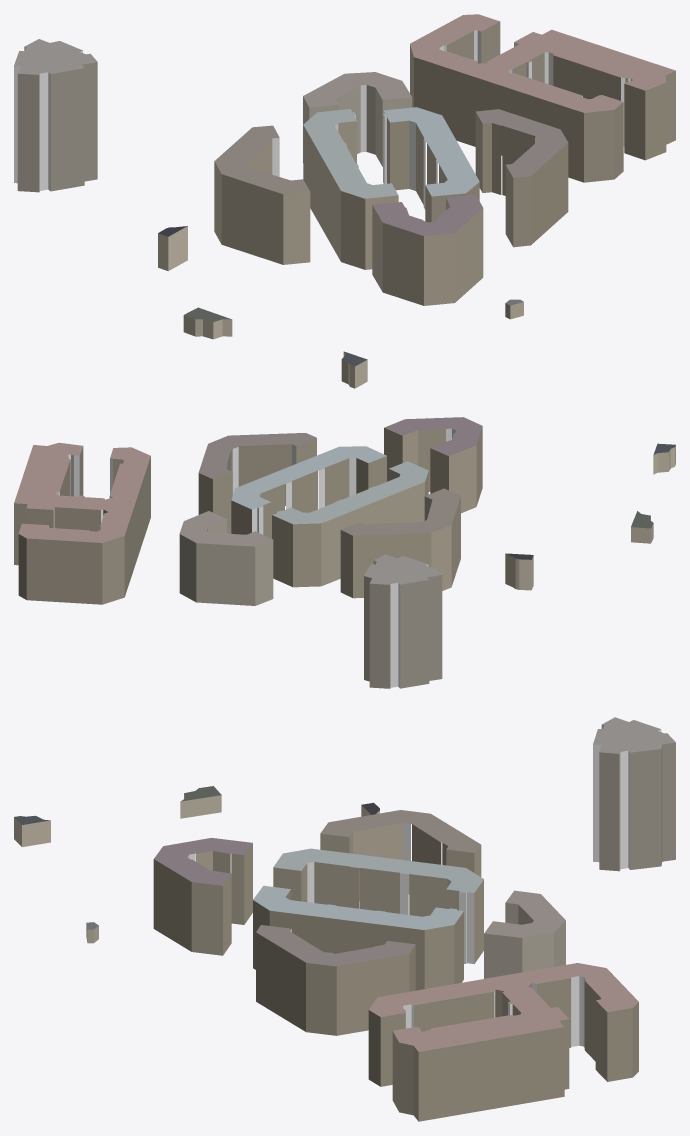
3 renders of one model, top to bottom at view 1: azimuth 30°, elevation 25°; view 2: azimuth 150°, elevation 25°; view 3: azimuth 270°, elevation 25°, orthographic. The views are drawn at different scales.
Visible parts, largest first — view 1: tuile; view 2: tuile; view 3: tuile.
Part boxes in pixels (<box>): tuile: <box>14,14,675,388</box>; tuile: <box>14,417,675,688</box>; tuile: <box>14,717,675,1121</box>.
Bounding box in the file's own units: 219 × 46.21 × 211.
